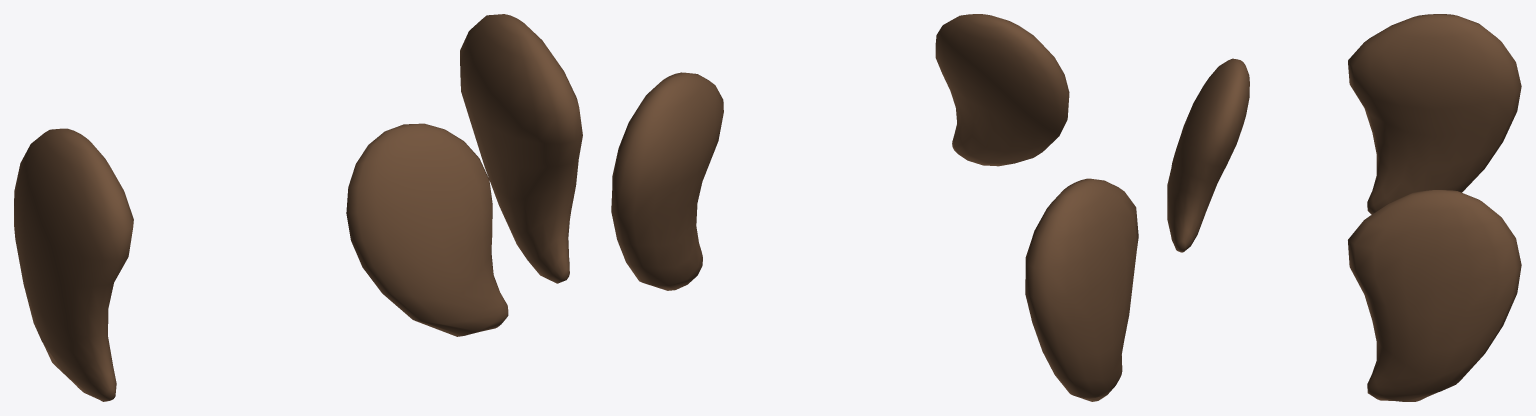
The model's file is SBWorker_Hair.fbx.
3 renders of one model, left to right at view 1: azimuth 30°, elevation 25°; view 2: azimuth 150°, elevation 25°; view 3: azimuth 270°, elevation 25°, orthographic. The views are drawn at different scales.
Parts seen in each view (by area): view 1: Sphere.007; view 2: Sphere.007; view 3: Sphere.007.
Part boxes in pixels (bbox=[...]): Sphere.007: bbox=[14, 14, 582, 401]; Sphere.007: bbox=[611, 14, 1138, 401]; Sphere.007: bbox=[1167, 14, 1521, 401].
Size of the model in its own units: 1.46 by 0.7734 by 1.02.
